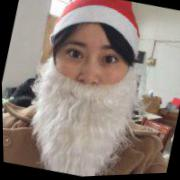WRONG: (43, 29, 135, 123)
